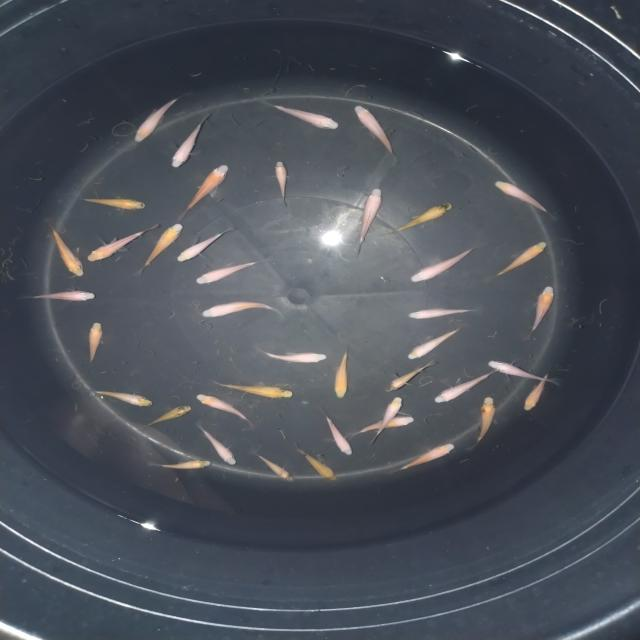nila: (86, 222, 166, 266), (404, 242, 484, 285), (168, 110, 224, 171), (128, 93, 188, 148), (174, 163, 232, 218), (134, 220, 189, 278), (350, 102, 402, 162), (428, 366, 502, 407), (262, 98, 346, 134), (485, 239, 551, 284), (39, 220, 89, 279), (484, 178, 556, 218), (350, 184, 388, 258), (173, 224, 237, 267), (188, 386, 253, 426), (394, 440, 461, 478), (482, 356, 565, 385), (196, 298, 294, 322), (292, 439, 342, 486), (520, 362, 564, 415), (362, 397, 407, 447), (197, 422, 244, 469), (524, 285, 562, 343), (316, 408, 358, 459), (379, 360, 435, 398), (404, 326, 459, 364), (467, 394, 503, 452), (196, 256, 264, 286), (346, 412, 418, 440), (394, 200, 455, 233), (329, 345, 362, 404), (214, 378, 298, 401), (72, 190, 150, 212), (400, 301, 476, 322), (258, 345, 334, 366), (22, 288, 100, 308), (87, 387, 157, 409), (246, 450, 294, 482), (135, 403, 194, 429), (81, 318, 106, 370), (140, 457, 218, 472), (271, 158, 293, 210)
